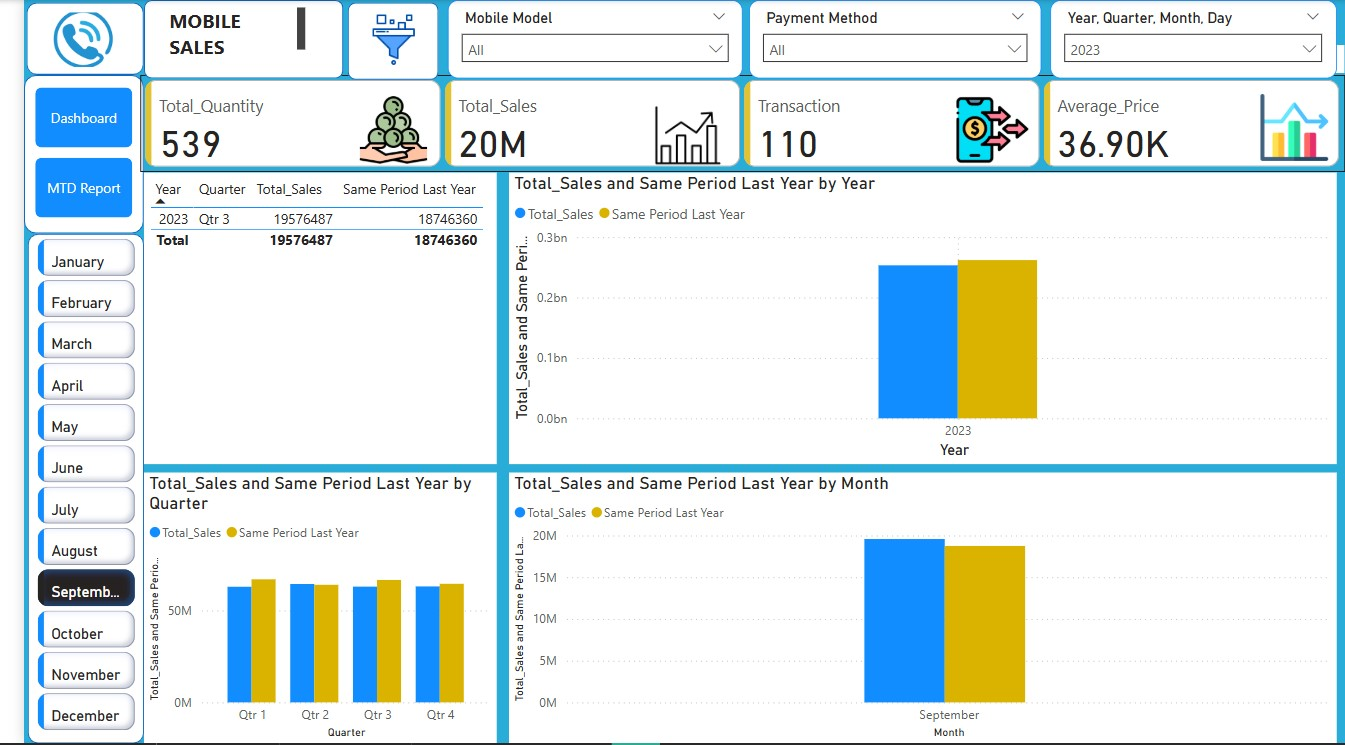

The dashboard page shown, as its layout file describes it:
{"tool":"powerbi","page":{"name":"Same Period Last Year","canvas":[1280,720],"ordinal":2},"visuals":[{"type":"shape","box":[2.4,2.4,113.8,70.2],"z":0},{"type":"image","box":[20.6,4.8,73.8,67.8],"z":1000},{"type":"shape","box":[0,72.6,116.2,153.7],"z":2000},{"type":"cardVisual","fields":{"Data":["Sales_Data.Total_Quantity","Sales_Data.Total_Sales","Sales_Data.Transaction","Sales_Data.Average_Price"]},"box":[112.6,72.6,1166.9,94.4],"z":3000},{"type":"slicer","fields":{"Values":["Sales_Data.Mobile Model"]},"box":[410.4,0,285.7,76.3],"z":4000},{"type":"slicer","fields":{"Values":["Custom_Calendar.Date.Variation.Date Hierarchy.Year","Custom_Calendar.Date.Variation.Date Hierarchy.Quarter","Custom_Calendar.Date.Variation.Date Hierarchy.Month","Custom_Calendar.Date.Variation.Date Hierarchy.Day"]},"box":[993.8,0,277.2,76.3],"z":5000},{"type":"slicer","fields":{"Values":["Sales_Data.Payment Method"]},"box":[702.1,0,283.3,76.3],"z":6000},{"type":"shape","box":[313.5,2.4,88.4,75.1],"z":7000},{"type":"image","box":[323.2,8.5,70.2,60.5],"z":8000},{"type":"shape","box":[116.2,0,193.7,76.3],"z":9000},{"type":"textbox","box":[135.6,2.4,141.6,65.4],"z":10000},{"type":"shape","box":[3.6,226.1,112.6,493.9],"z":11000},{"type":"advancedSlicerVisual","fields":{"Values":["Custom_Calendar.Date.Variation.Date Hierarchy.Month"]},"box":[8.5,226.4,104.1,493.9],"z":12000},{"type":"tableEx","fields":{"Values":["Custom_Calendar.Date.Variation.Date Hierarchy.Year","Custom_Calendar.Date.Variation.Date Hierarchy.Quarter","Sales_Data.Total_Sales","Sales_Data.Same Period Last Year"]},"box":[116.2,167,341.4,282],"z":13000},{"type":"clusteredColumnChart","fields":{"Category":["Custom_Calendar.Date.Variation.Date Hierarchy.Year","Custom_Calendar.Date.Variation.Date Hierarchy.Quarter"],"Y":["Sales_Data.Total_Sales","Sales_Data.Same Period Last Year"]},"box":[469.7,167,801.3,282],"z":14000},{"type":"clusteredColumnChart","fields":{"Y":["Sales_Data.Total_Sales","Sales_Data.Same Period Last Year"],"Category":["Custom_Calendar.Date.Variation.Date Hierarchy.Year","Custom_Calendar.Date.Variation.Date Hierarchy.Quarter","Custom_Calendar.Date.Variation.Date Hierarchy.Month","Custom_Calendar.Date.Variation.Date Hierarchy.Day"]},"box":[469.7,457.6,801.3,262.7],"z":15000},{"type":"clusteredColumnChart","fields":{"Category":["Custom_Calendar.Date.Variation.Date Hierarchy.Year","Custom_Calendar.Date.Variation.Date Hierarchy.Quarter"],"Y":["Sales_Data.Total_Sales","Sales_Data.Same Period Last Year"]},"box":[116.2,457.6,341.4,262.7],"z":16000},{"type":"pageNavigator","box":[10.9,84.7,94.4,127.1],"z":17000}]}

Visuals, with their boxes in screenshot pixels (x1, y1, x2, y2), scaled from the page's 1280x720 canvas onto the 1345x745 screenshot:
shape: select_region(3, 2, 122, 75)
image: select_region(22, 5, 99, 75)
shape: select_region(0, 75, 122, 234)
cardVisual - Sales_Data.Total_Quantity x Sales_Data.Total_Sales: select_region(118, 75, 1344, 173)
slicer - Sales_Data.Mobile Model: select_region(431, 0, 731, 79)
slicer - Custom_Calendar.Date.Variation.Date Hierarchy.Year x Custom_Calendar.Date.Variation.Date Hierarchy.Quarter: select_region(1044, 0, 1336, 79)
slicer - Sales_Data.Payment Method: select_region(738, 0, 1035, 79)
shape: select_region(329, 2, 422, 80)
image: select_region(340, 9, 413, 71)
shape: select_region(122, 0, 326, 79)
textbox: select_region(142, 2, 291, 70)
shape: select_region(4, 234, 122, 744)
advancedSlicerVisual - Custom_Calendar.Date.Variation.Date Hierarchy.Month: select_region(9, 234, 118, 744)
tableEx - Custom_Calendar.Date.Variation.Date Hierarchy.Year x Custom_Calendar.Date.Variation.Date Hierarchy.Quarter: select_region(122, 173, 481, 465)
clusteredColumnChart - Custom_Calendar.Date.Variation.Date Hierarchy.Year x Custom_Calendar.Date.Variation.Date Hierarchy.Quarter: select_region(494, 173, 1336, 465)
clusteredColumnChart - Sales_Data.Total_Sales x Sales_Data.Same Period Last Year: select_region(494, 473, 1336, 744)
clusteredColumnChart - Custom_Calendar.Date.Variation.Date Hierarchy.Year x Custom_Calendar.Date.Variation.Date Hierarchy.Quarter: select_region(122, 473, 481, 744)
pageNavigator: select_region(11, 88, 111, 219)
